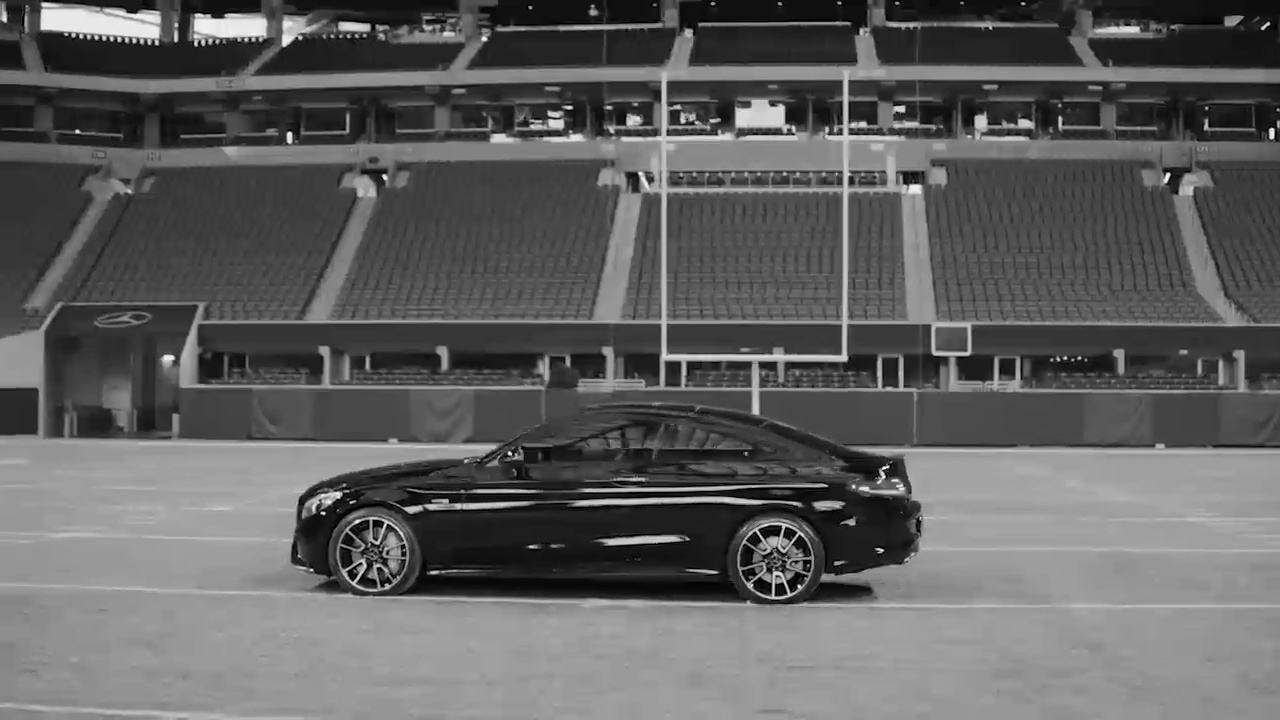car: (282, 401, 930, 610)
